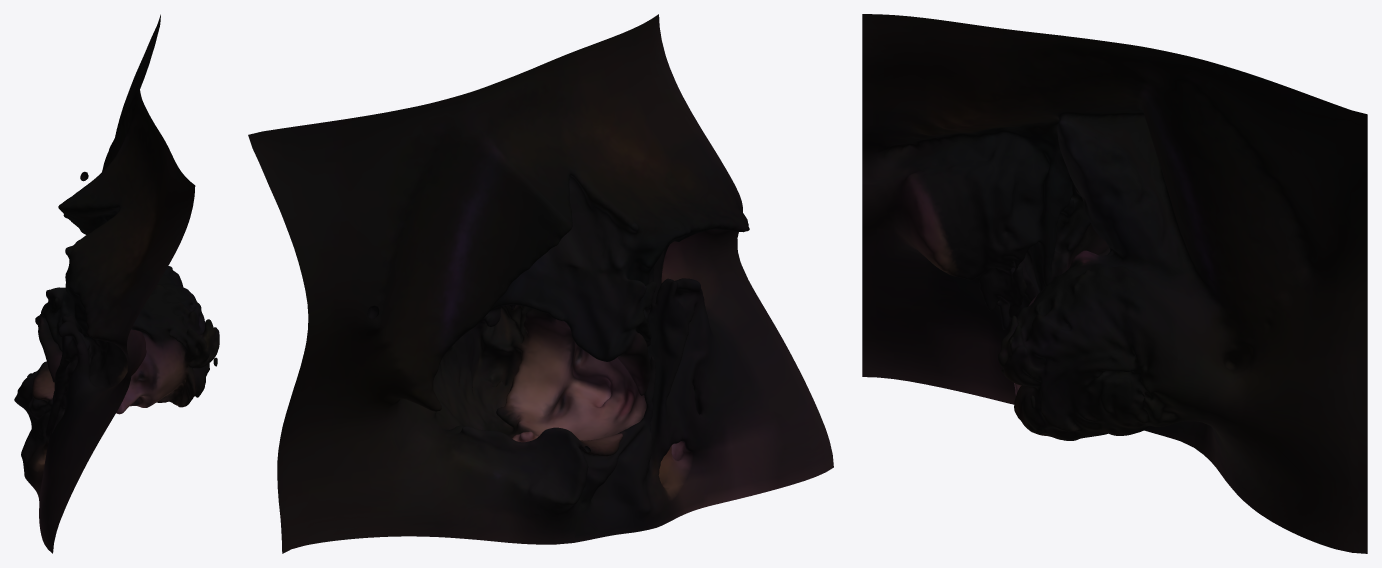
Rendered from senya.obj.
3 renders of one model, left to right at view 1: azimuth 30°, elevation 25°; view 2: azimuth 150°, elevation 25°; view 3: azimuth 270°, elevation 25°, orthographic. The views are drawn at different scales.
Bounding box in the file's own units: 0.5383 × 0.5879 × 0.588.
